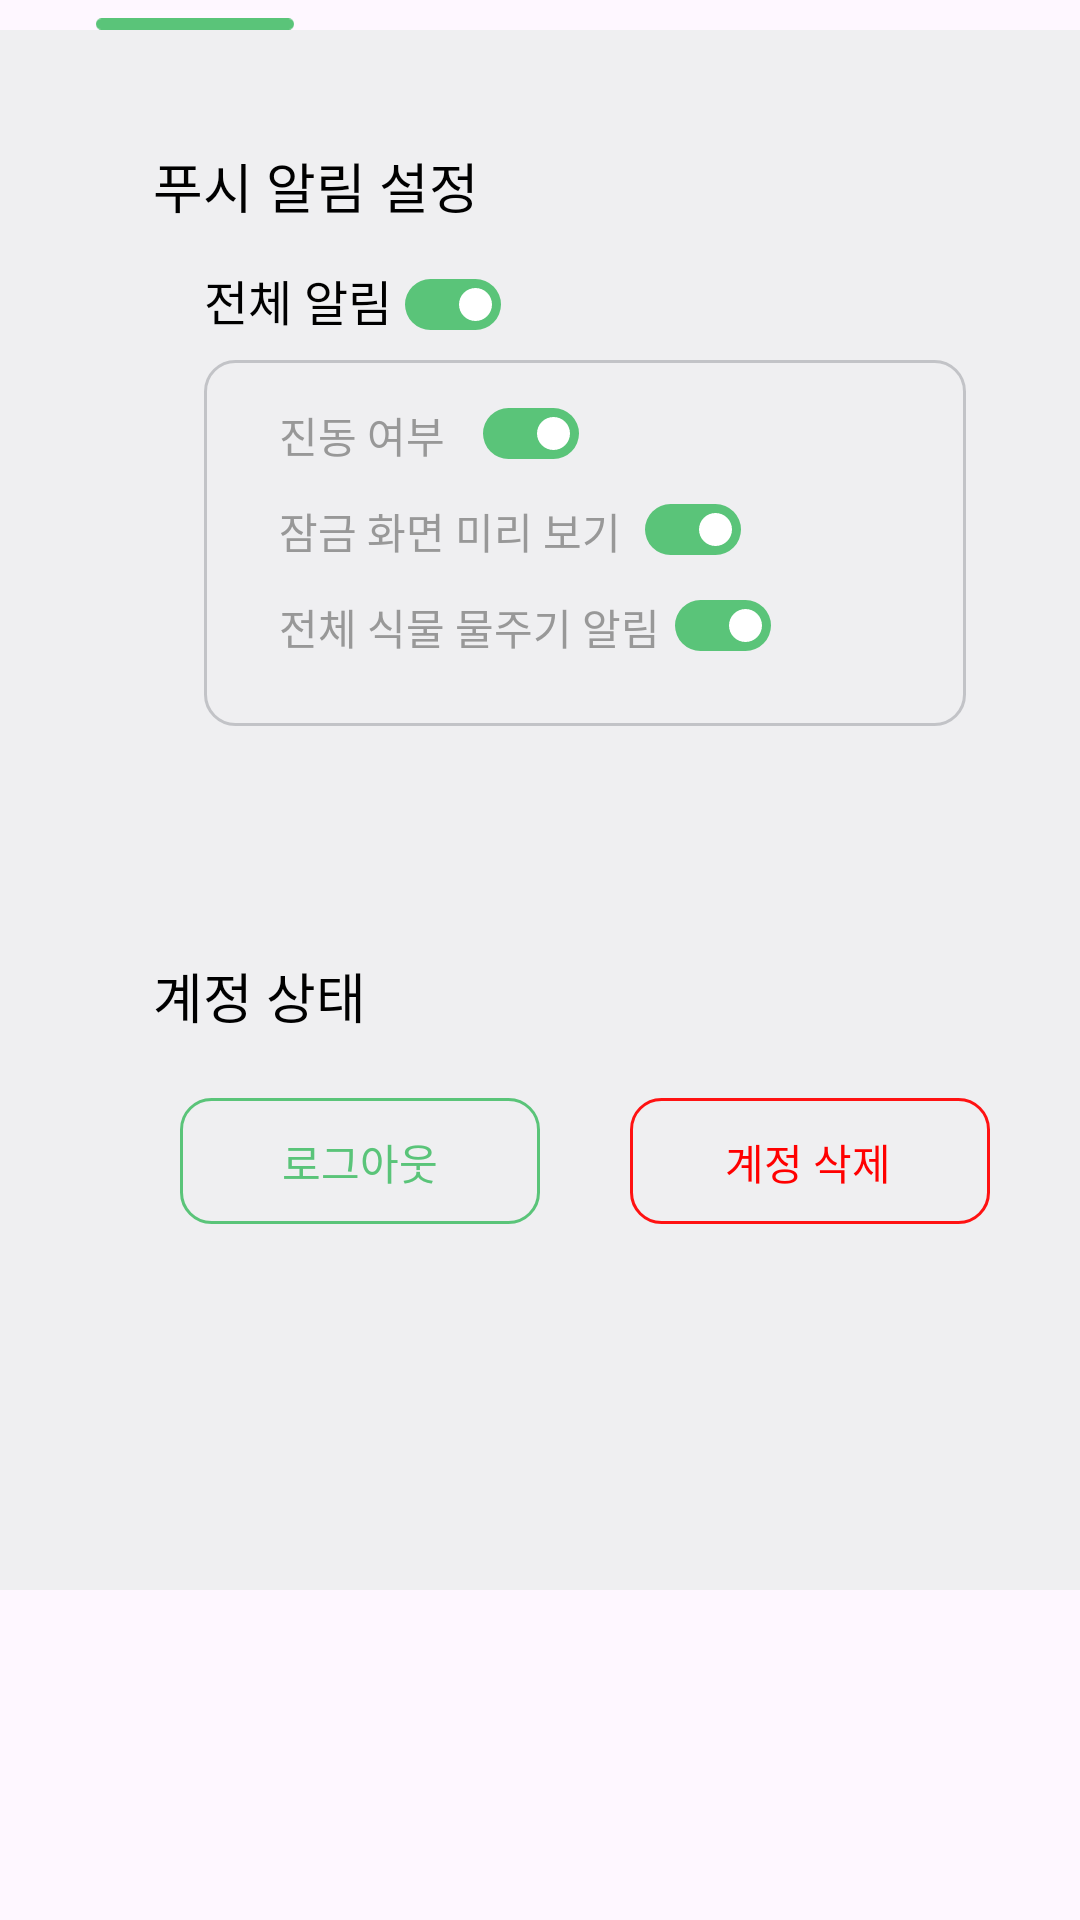

Named icons in this screenshot (1080px×1920px) and their centers, (x,y):
setting on: (453,304), (531,433), (693,529), (723,625)
